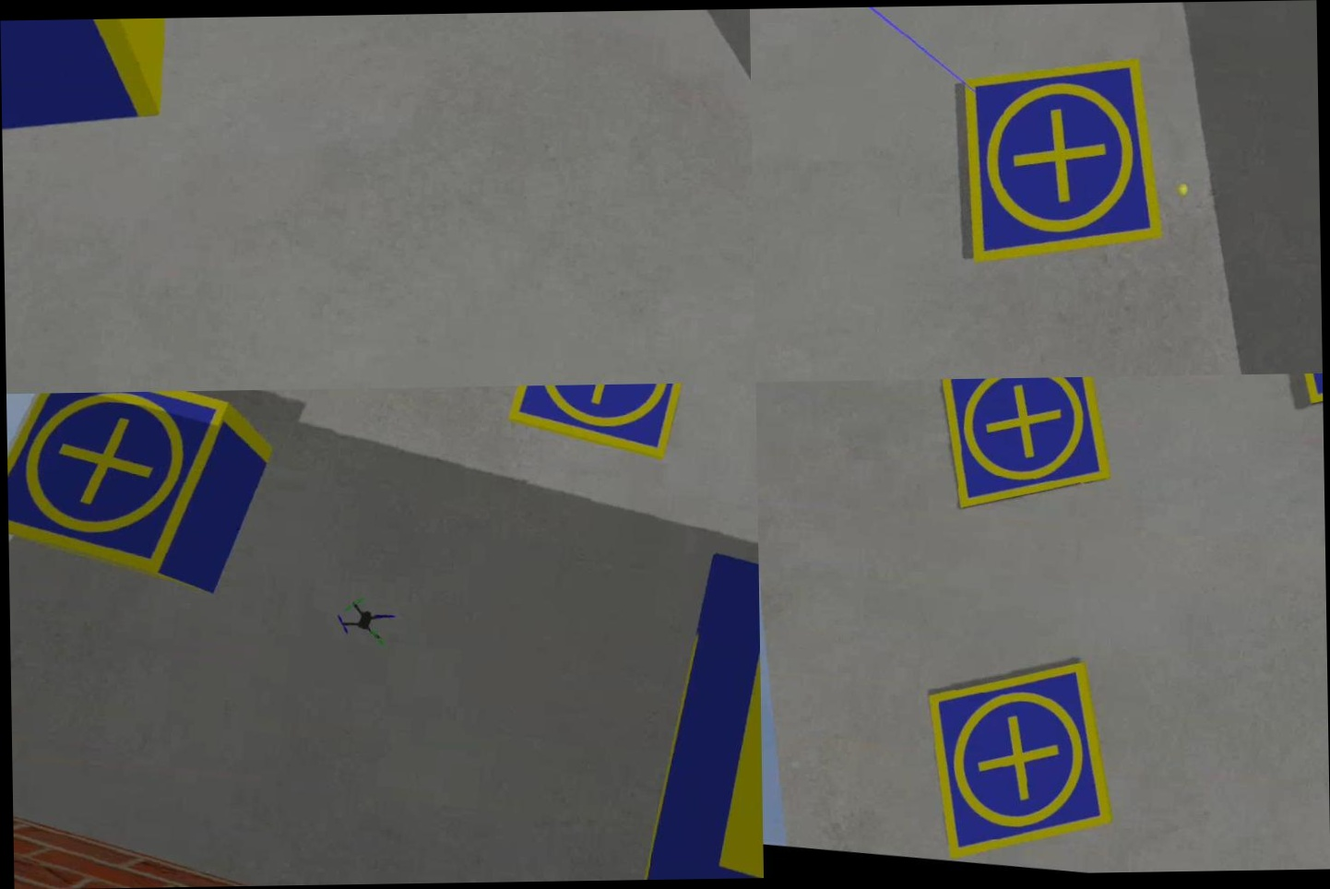small_base: (939, 40, 1182, 286), (913, 644, 1126, 875), (6, 390, 240, 587), (922, 376, 1130, 524), (503, 383, 705, 471)
